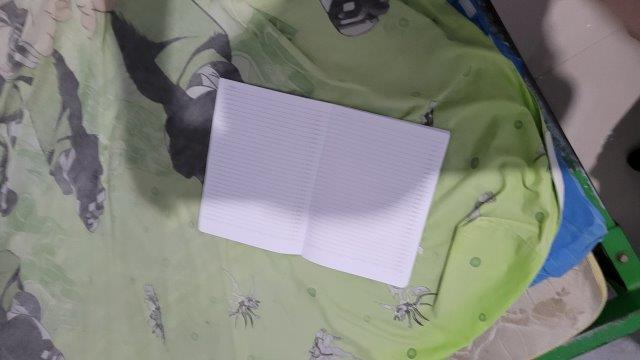kertas: (196, 78, 451, 288)
